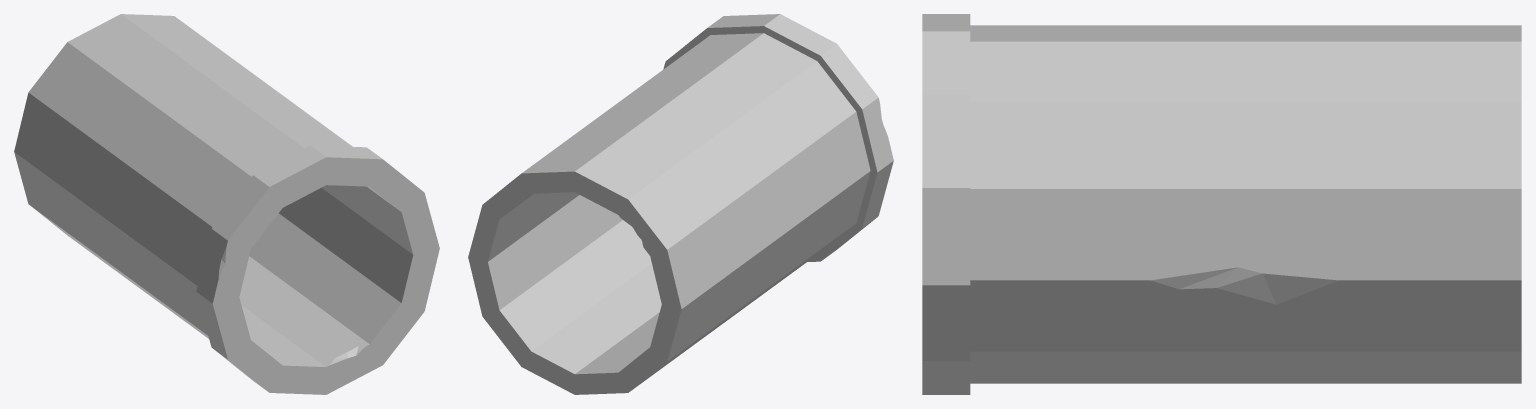
File: Wh_Concrete_Tube.fbx
The picture shows the model from 3 angles, left to right: view 1: azimuth 30°, elevation 25°; view 2: azimuth 150°, elevation 25°; view 3: azimuth 270°, elevation 25°; orthographic projection. The views are drawn at different scales.
Visible parts, largest first — view 1: Cylinder.052; view 2: Cylinder.052; view 3: Cylinder.052.
Boxes of the visible parts, box(x1,y1,x2,y2) form: Cylinder.052: box(14, 14, 439, 394); Cylinder.052: box(468, 14, 893, 394); Cylinder.052: box(922, 14, 1521, 394).
Bounding box in the file's own units: 255 × 255 × 400.
